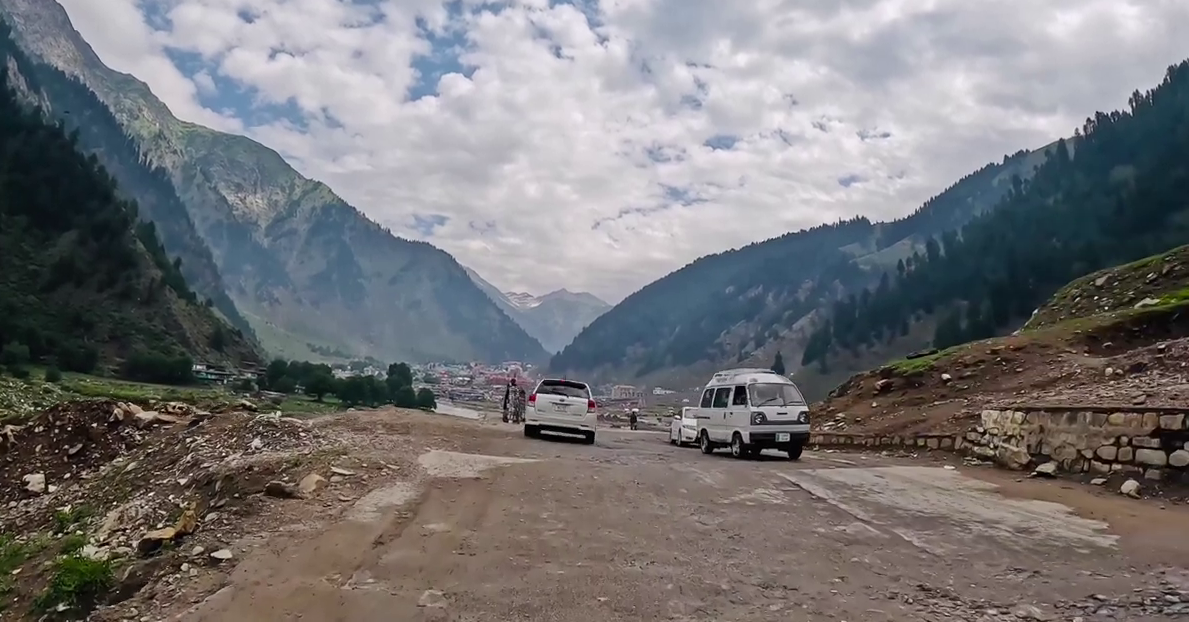unexpected: (161, 388, 663, 602)
